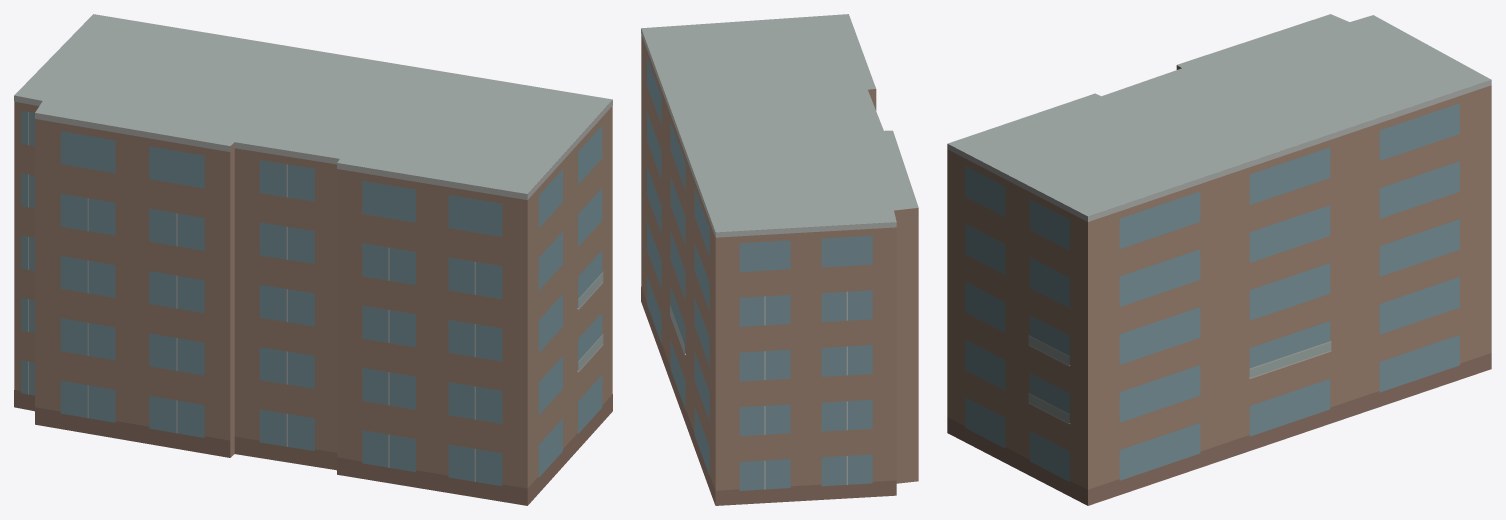
File: survey-upis-32708015.glb
3 views of the same model, side by side, from view 1: azimuth 30°, elevation 25°; view 2: azimuth 150°, elevation 25°; view 3: azimuth 270°, elevation 25° (orthographic). The views are drawn at different scales.
Visible parts, largest first — view 1: survey-upis-32708015.tmp; view 2: survey-upis-32708015.tmp; view 3: survey-upis-32708015.tmp.
Boxes of the visible parts, x1,y1,x2,y2 form: survey-upis-32708015.tmp: (14,14,612,505); survey-upis-32708015.tmp: (641,14,918,505); survey-upis-32708015.tmp: (947,14,1491,505).
Size of the model in its own units: 18.99 by 12.65 by 21.56.
